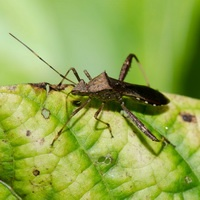insect: (9, 33, 174, 146)
